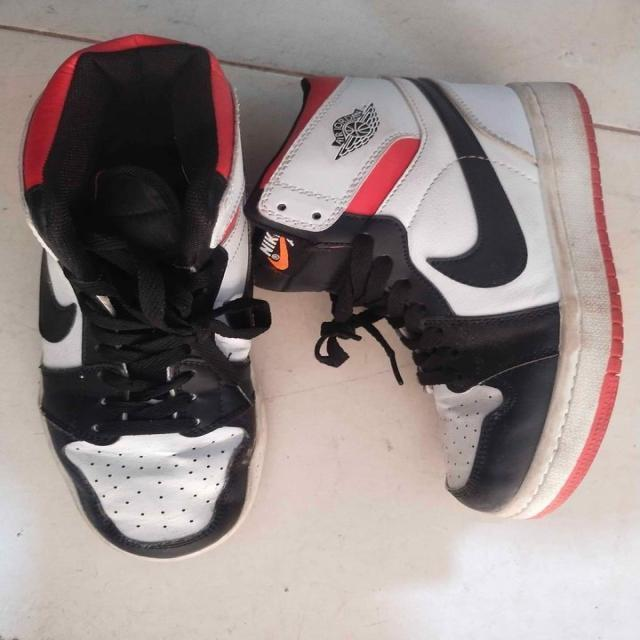nike fake jordan 1: (256, 71, 626, 522), (15, 29, 269, 558)
